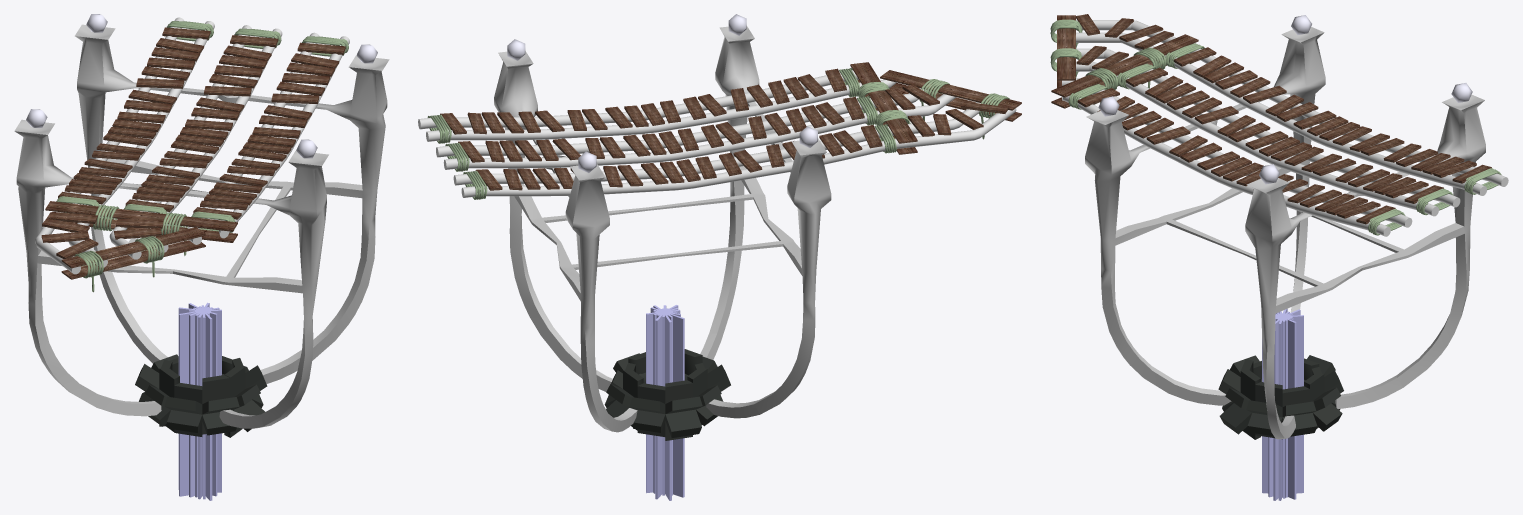
The model's file is 3_bridge_right.fbx.
3 views of the same model, side by side, from view 1: azimuth 30°, elevation 25°; view 2: azimuth 150°, elevation 25°; view 3: azimuth 270°, elevation 25° (orthographic). The views are drawn at different scales.
Parts seen in each view (by area): view 1: 3_right_base, gravityring, 3_right_LaR, 3_right_LaM, 3_right_LaL, 3_right_verschlag_02, 3_right_LaR_c, 3_right_verschlag, 3_right_LaM_c, 3_right_verschlag_02_ropes, 3_right_ropevertical, 3_right_LaR_ropes (+2 smaller); view 2: 3_right_base, gravityring, 3_right_LaR, 3_right_LaM, 3_right_LaL, 3_right_LaR_c, 3_right_verschlag_02, 3_right_verschlag, 3_right_LaM_c, 3_right_LaL_ropes, 3_right_LaR_ropes, 3_right_LaM_ropes (+1 smaller); view 3: 3_right_base, gravityring, 3_right_LaL, 3_right_LaM, 3_right_LaR, 3_right_LaR_c, 3_right_verschlag, 3_right_verschlag_02, 3_right_LaM_c, 3_right_LaR_ropes, 3_right_LaL_ropes, 3_right_LaM_ropes (+2 smaller).
Part boxes in pixels (left/top/right/bottom): 3_right_base: left=14, top=14, right=389, bottom=428; gravityring: left=135, top=302, right=267, bottom=500; 3_right_LaR: left=193, top=32, right=349, bottom=232; 3_right_LaM: left=125, top=25, right=282, bottom=213; 3_right_LaL: left=58, top=17, right=214, bottom=205; 3_right_verschlag_02: left=61, top=227, right=205, bottom=279; 3_right_LaR_c: left=35, top=211, right=107, bottom=274; 3_right_verschlag: left=45, top=201, right=237, bottom=242; 3_right_LaM_c: left=109, top=218, right=168, bottom=259; 3_right_verschlag_02_ropes: left=74, top=236, right=164, bottom=292; 3_right_ropevertical: left=93, top=204, right=187, bottom=255; 3_right_LaR_ropes: left=191, top=36, right=348, bottom=232; 3_right_base: left=494, top=14, right=831, bottom=432; gravityring: left=604, top=305, right=730, bottom=500; 3_right_LaR: left=418, top=68, right=861, bottom=141; 3_right_LaM: left=436, top=97, right=879, bottom=169; 3_right_LaL: left=453, top=125, right=906, bottom=197; 3_right_LaR_c: left=906, top=101, right=1016, bottom=147; 3_right_verschlag_02: left=880, top=70, right=1021, bottom=121; 3_right_verschlag: left=850, top=62, right=917, bottom=154; 3_right_LaM_c: left=885, top=84, right=955, bottom=117; 3_right_LaL_ropes: left=463, top=124, right=896, bottom=199; 3_right_LaR_ropes: left=427, top=68, right=859, bottom=143; 3_right_LaM_ropes: left=445, top=96, right=877, bottom=171; 3_right_base: left=1085, top=15, right=1485, bottom=439; gravityring: left=1218, top=308, right=1343, bottom=500; 3_right_LaL: left=1160, top=47, right=1508, bottom=195; 3_right_LaM: left=1115, top=67, right=1460, bottom=216; 3_right_LaR: left=1062, top=88, right=1412, bottom=236; 3_right_LaR_c: left=1076, top=14, right=1176, bottom=50; 3_right_verschlag: left=1051, top=34, right=1198, bottom=108; 3_right_verschlag_02: left=1057, top=15, right=1075, bottom=87; 3_right_LaM_c: left=1076, top=46, right=1128, bottom=71; 3_right_LaR_ropes: left=1068, top=84, right=1405, bottom=235; 3_right_LaL_ropes: left=1165, top=43, right=1501, bottom=194; 3_right_LaM_ropes: left=1117, top=63, right=1453, bottom=215.
Bounding box in the file's own units: 133 × 117 × 121.
7 materials, 1 textured.
